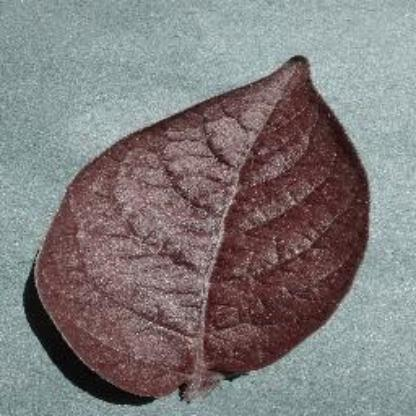Healthy-plant: (30, 52, 372, 402)
